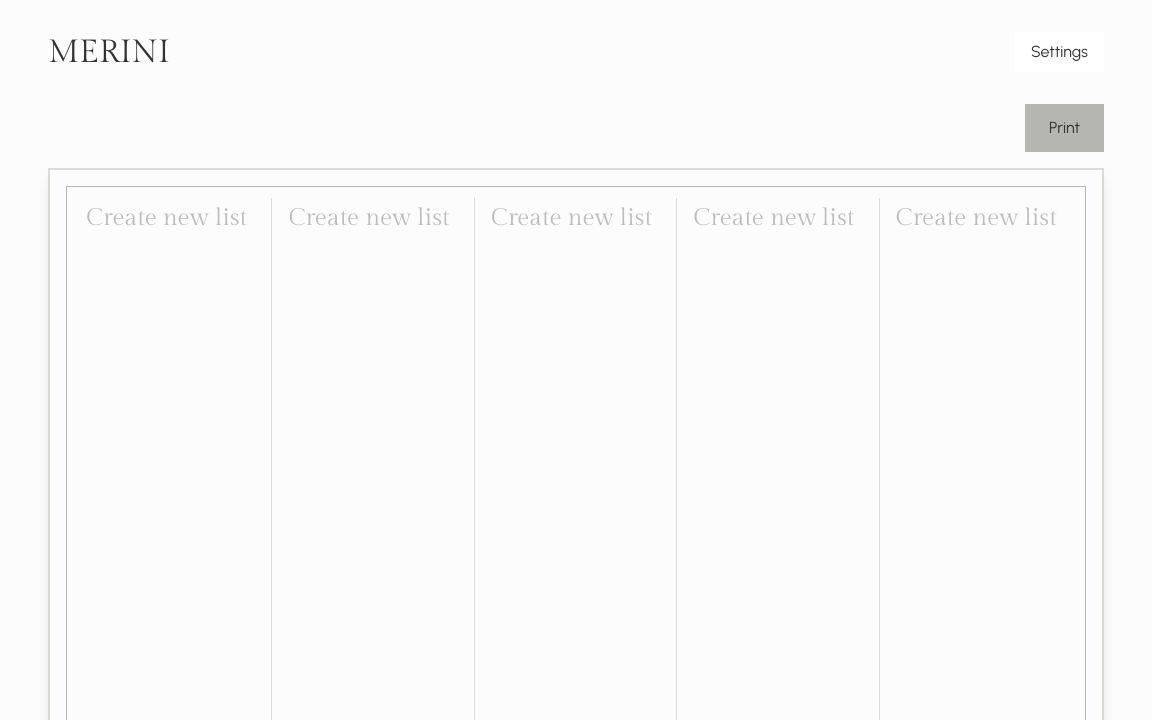
App - Empty State (No Lists) › allows creating first list via "Create new list" button
Note: Click first "Create new list" button (first column)
Click the 1st button "Create new list" at (167, 218), box [78, 198, 255, 238]
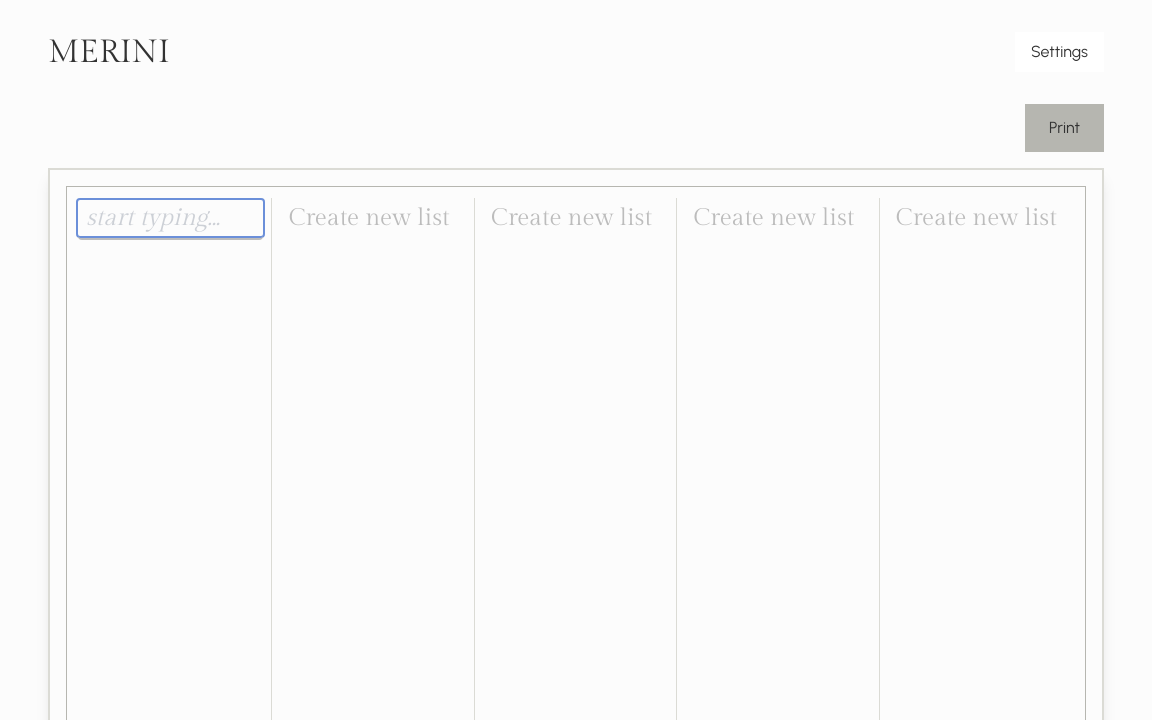
Expected: the field named "enter list name" is shown
Note: Type list name and save
Type "My First List" into the field named "enter list name" at (171, 218), box [78, 196, 263, 240]
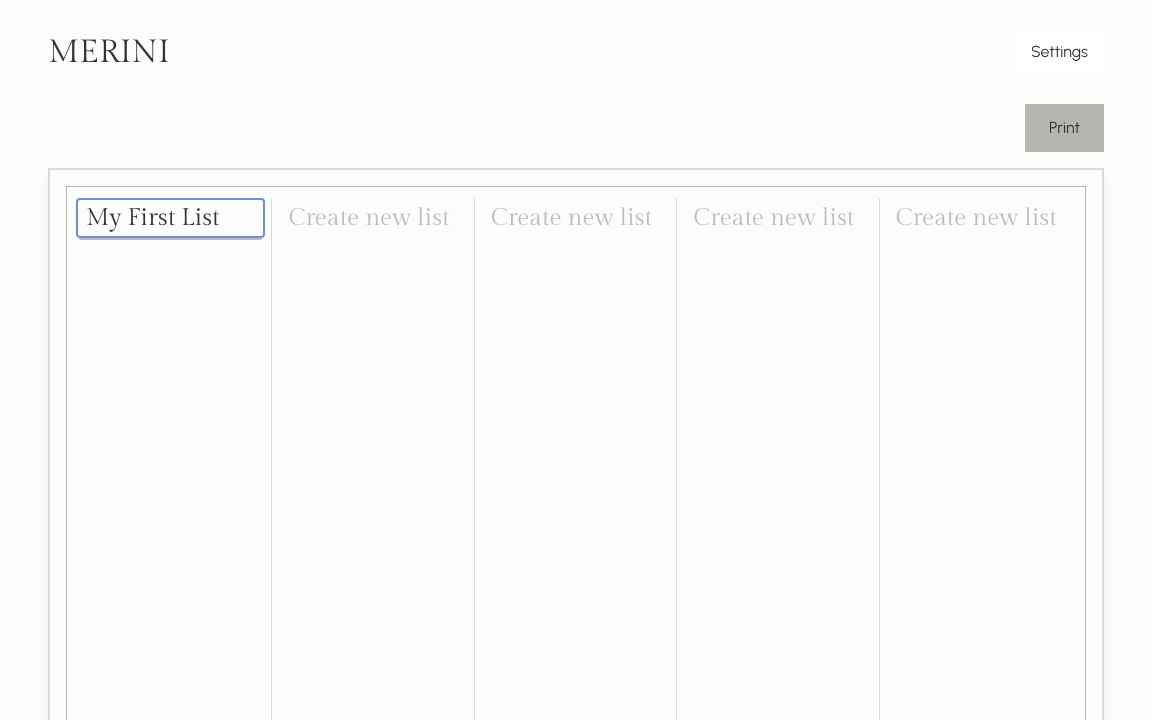
Press Enter
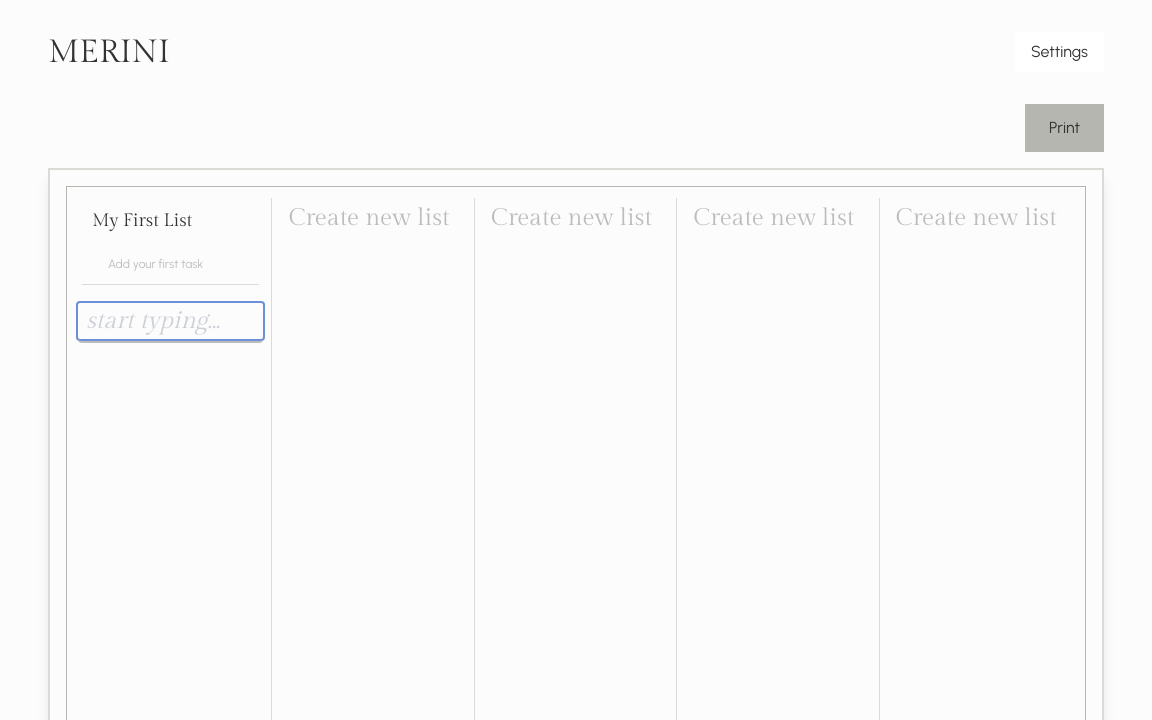
Expected: the 1st button "Create new list" is shown, [280, 198, 458, 238]
Expected: the button "My First List" is shown, [92, 210, 192, 231]
